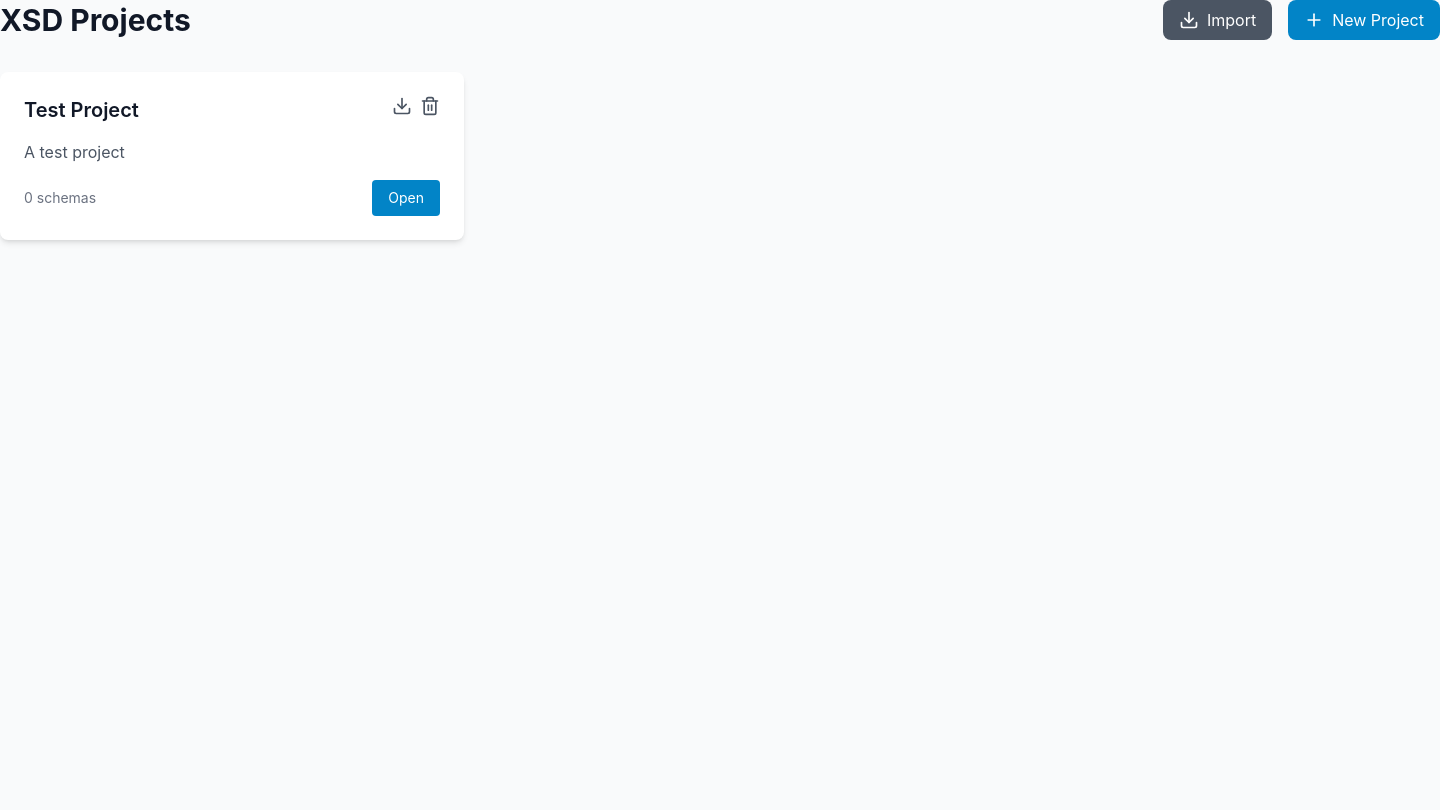
it: HomePage › opens delete confirmation dialog
Step 1. Click the button titled "Delete" → x=430, y=106, box x1=420 y1=96 x2=440 y2=116
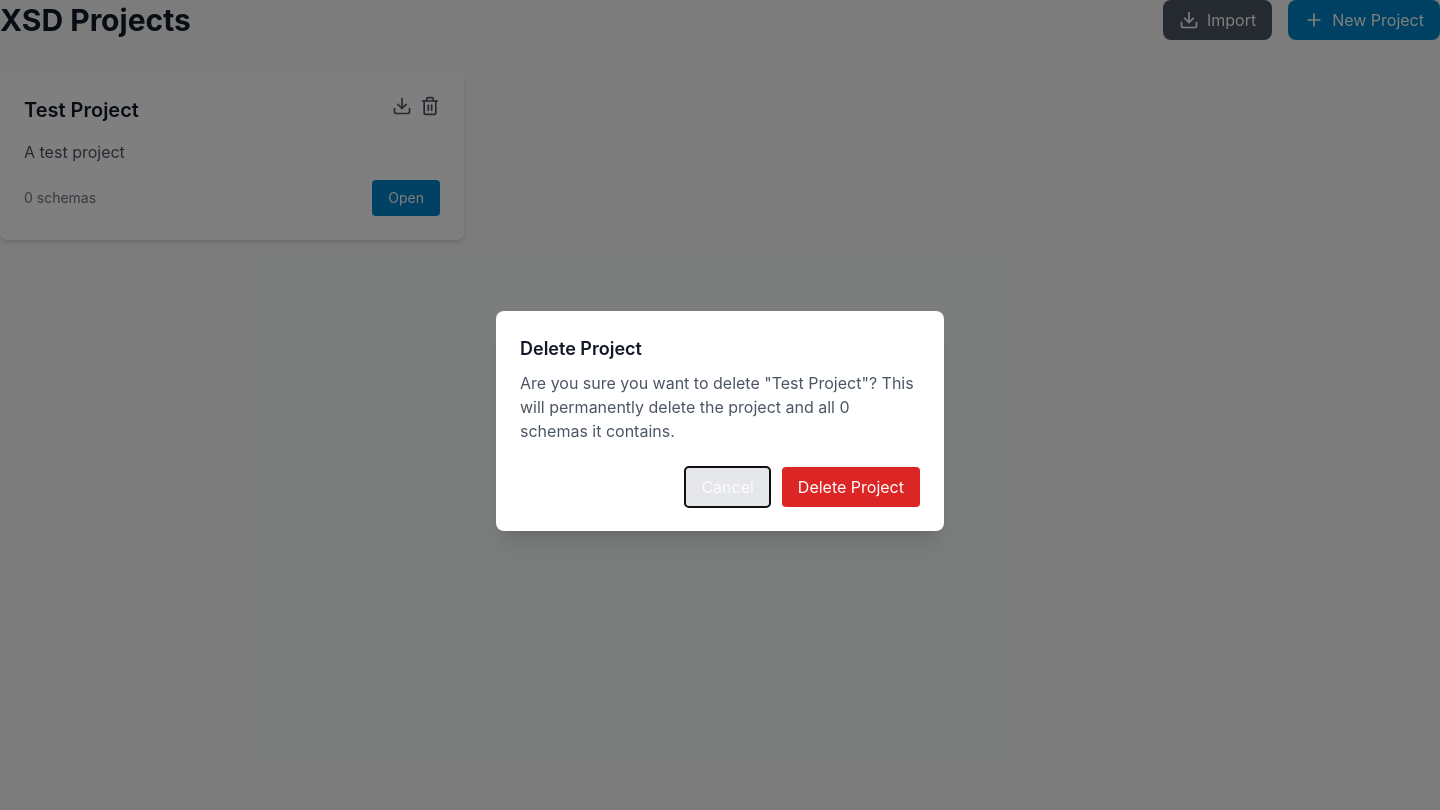
Expected: the dialog is shown
Expected: the text "Are you sure you want to delete \"Test Project\"" is shown, x1=520 y1=373 x2=914 y2=441
